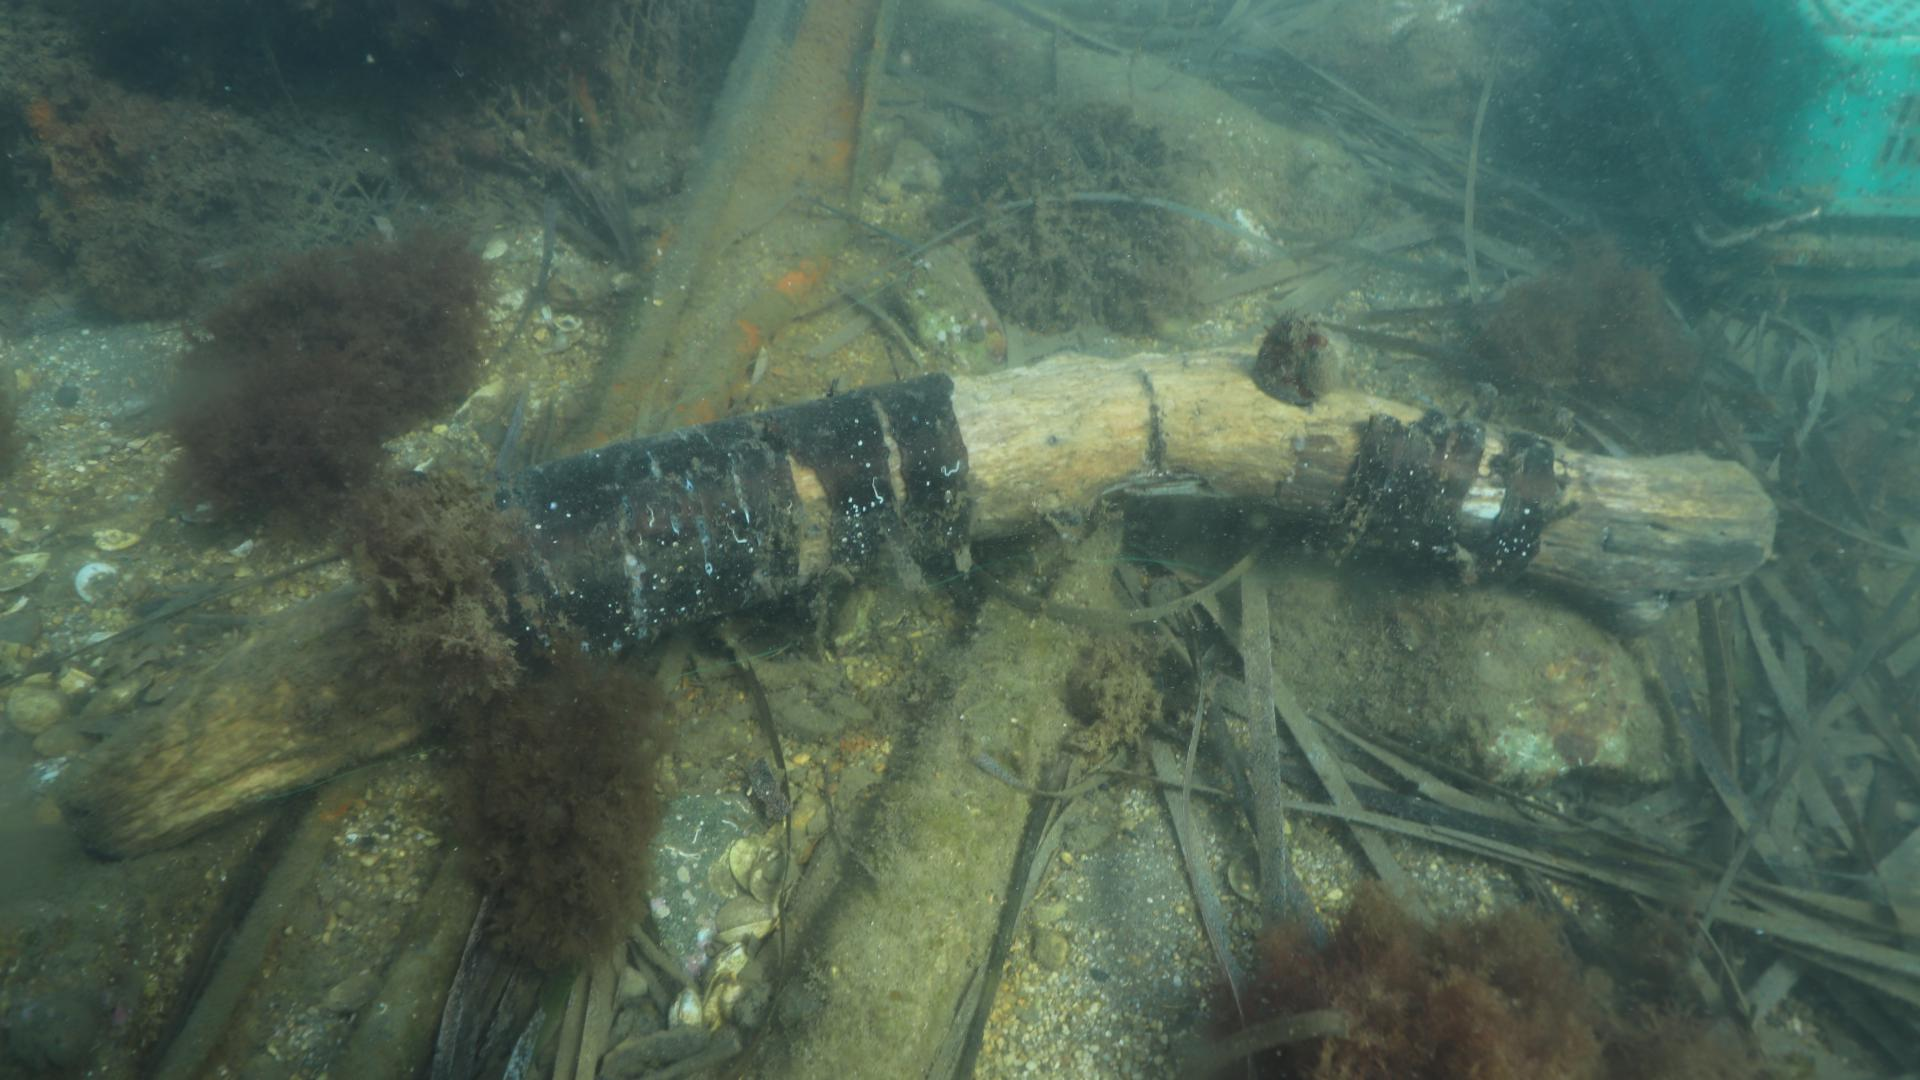wood: (44, 309, 1780, 878)
